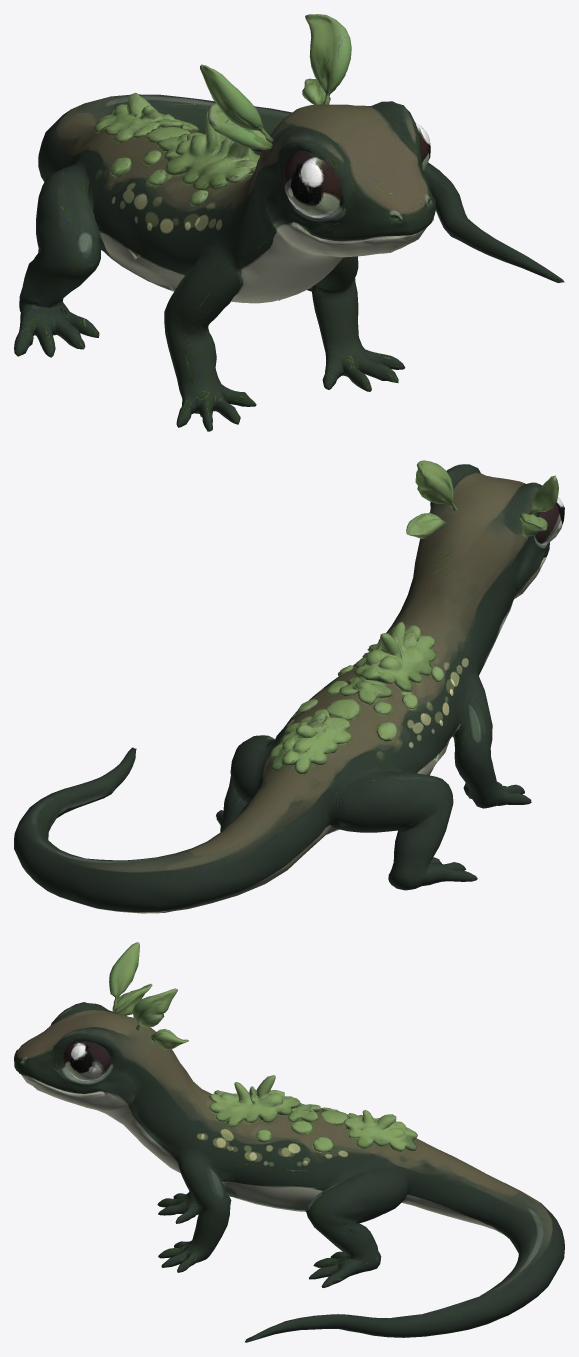
Rendered from inicial-planta-1.glb.
3 views of the same model, one above another, from view 1: azimuth 30°, elevation 25°; view 2: azimuth 150°, elevation 25°; view 3: azimuth 270°, elevation 25° (orthographic). The views are drawn at different scales.
Bounding box in the file's own units: 0.6519 × 0.4917 × 0.9561.
1 material, 1 textured.
